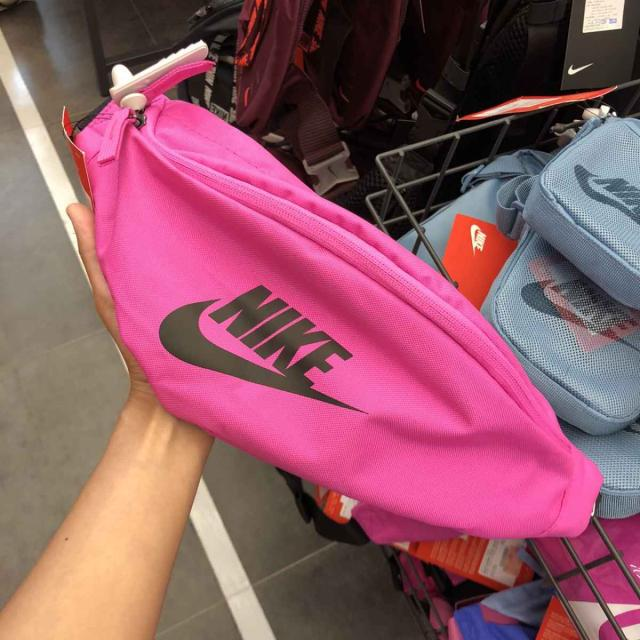handbag: (75, 67, 603, 544)
